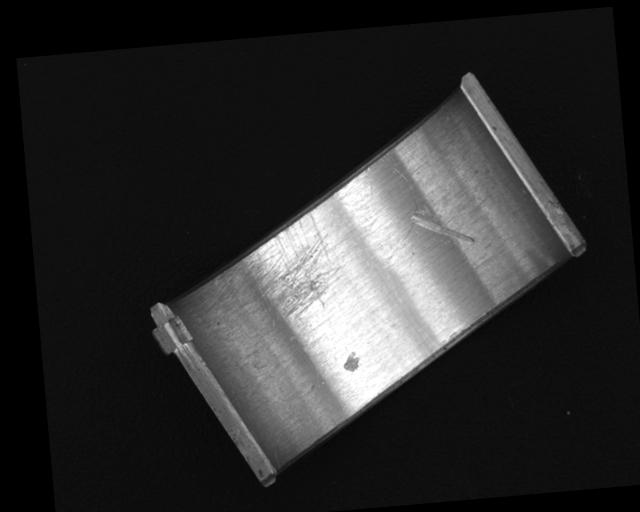bruise: (342, 350, 360, 374)
nick: (410, 202, 476, 249), (390, 163, 420, 245)
scratch: (213, 207, 350, 325)
